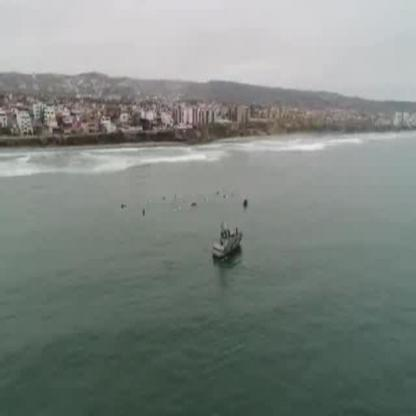Boat: (213, 224, 245, 262)
